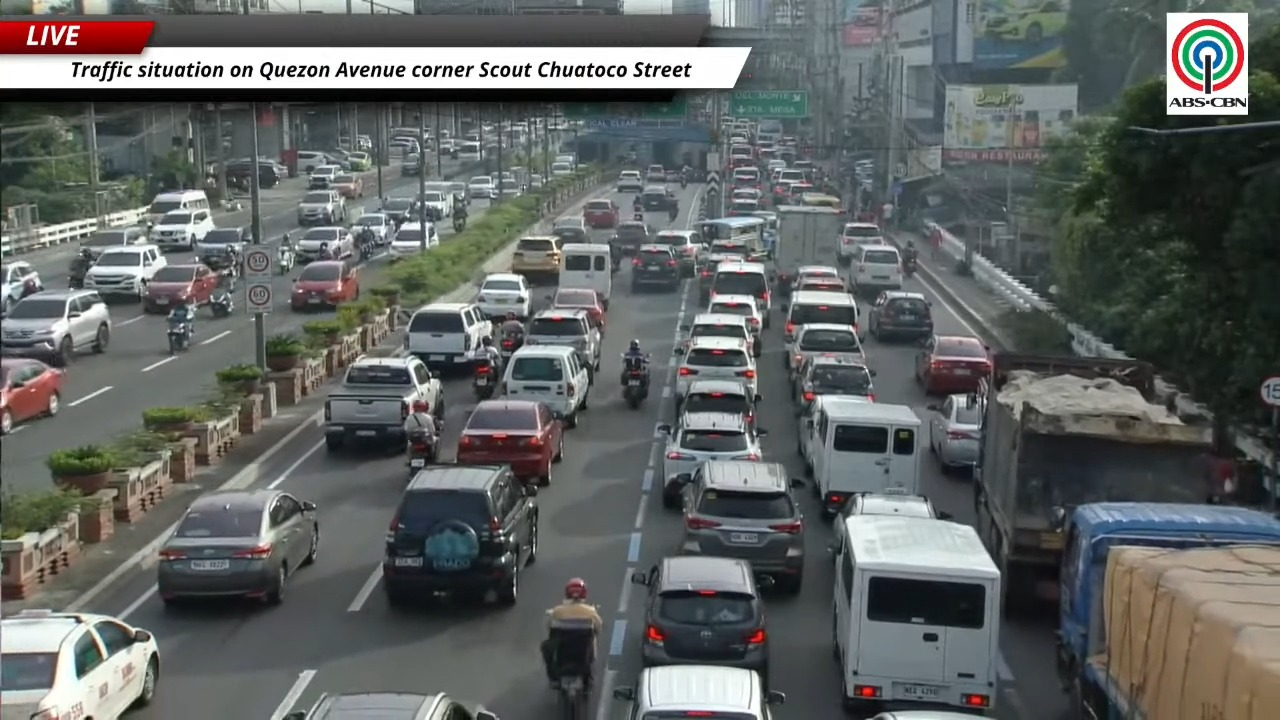car: (382, 464, 538, 607), (157, 489, 319, 606), (664, 459, 804, 594), (0, 610, 159, 719), (632, 556, 768, 677), (658, 411, 765, 506), (456, 399, 562, 484), (0, 290, 111, 366), (502, 345, 591, 427), (832, 493, 951, 546), (405, 303, 491, 368), (282, 693, 497, 719), (791, 353, 875, 414), (525, 309, 601, 371), (0, 358, 62, 434), (83, 244, 167, 300), (676, 337, 758, 394), (915, 335, 991, 394), (787, 323, 863, 378), (928, 394, 981, 471), (710, 261, 771, 327), (981, 0, 1067, 45), (674, 313, 760, 357), (143, 263, 218, 312), (677, 380, 758, 425), (706, 294, 764, 356), (290, 260, 358, 311), (868, 290, 933, 340), (850, 244, 902, 296), (149, 209, 214, 250), (475, 273, 531, 320), (549, 288, 605, 333), (631, 244, 681, 291), (651, 230, 702, 276), (0, 260, 43, 313), (697, 251, 741, 301), (511, 236, 560, 280), (295, 226, 353, 263), (80, 226, 146, 258), (226, 158, 288, 188), (388, 221, 438, 258), (196, 225, 252, 258), (297, 189, 346, 226), (838, 222, 885, 259), (611, 220, 655, 255), (352, 212, 395, 244), (583, 198, 620, 228), (792, 275, 849, 293), (421, 188, 452, 220), (308, 164, 343, 190), (380, 198, 414, 224), (550, 225, 590, 246), (331, 173, 363, 198), (296, 150, 329, 174), (795, 265, 841, 282), (641, 185, 671, 211), (495, 172, 524, 196), (731, 167, 761, 190), (468, 175, 495, 199), (787, 181, 815, 204), (553, 214, 588, 232), (728, 198, 761, 217), (771, 180, 794, 207), (615, 171, 644, 192), (446, 181, 470, 206), (400, 152, 423, 176), (346, 151, 372, 171), (731, 186, 762, 202), (645, 164, 665, 182), (550, 162, 574, 176), (665, 169, 681, 183)
motorcycle: (621, 354, 648, 408), (408, 430, 438, 477), (208, 273, 234, 317), (472, 361, 497, 399), (200, 253, 241, 276), (623, 370, 647, 409), (167, 319, 191, 355), (69, 256, 93, 288), (209, 289, 233, 317), (499, 335, 522, 361), (277, 245, 296, 274), (903, 257, 917, 277), (452, 214, 466, 232), (668, 204, 678, 221), (633, 211, 645, 222), (680, 176, 687, 189)
truck: (972, 352, 1213, 608), (1056, 503, 1279, 719), (323, 355, 444, 451), (770, 205, 846, 296)
